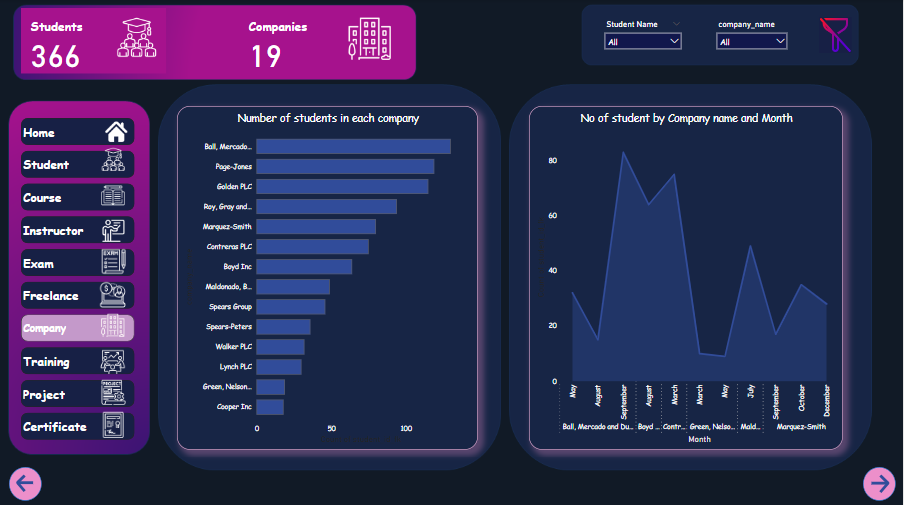

What the dashboard file says about the page in this screenshot:
{"tool":"powerbi","page":{"name":"Company","canvas":[1600,900],"ordinal":14},"visuals":[{"type":"clusteredBarChart","title":"Number of students in each company","fields":{"Category":["Dim_Hiring.company_name"],"Y":["CountNonNull(Fact_table.student_id_fk)"]},"box":[315.4,189.6,533.3,609.4],"z":0},{"type":"areaChart","title":"No of student by Company name and Month","fields":{"Y":["CountNonNull(Fact_table.student_id_fk)"],"Category":["Dim_Hiring.company_name","Dim_Hiring.hire_date.Variation.Date Hierarchy.Month"]},"box":[939,189.6,556.3,609.4],"z":1000},{"type":"cardVisual","fields":{"Data":["CountNonNull(Dim_Student.st_id_sk)"]},"box":[39.8,16.3,257.2,115.9],"z":2000},{"type":"slicer","fields":{"Values":["Dim_Student.st_fname"]},"box":[1063,31.9,155.9,70.9],"z":3000},{"type":"cardVisual","fields":{"Data":["Count(Dim_Hiring.company_name)"]},"box":[425.7,16.3,286.2,115.9],"z":4000},{"type":"slicer","fields":{"Values":["Dim_Hiring.company_name"]},"box":[1261.4,31.9,145.3,70.9],"z":5000},{"type":"actionButton","box":[1452.8,31.9,58.5,63.8],"z":6000},{"type":"pageNavigator","box":[39,210.8,202,572.2],"z":7000},{"type":"image","box":[168.5,210.1,79.7,48.9],"z":8000},{"type":"image","box":[163,259,79.7,50.7],"z":9000},{"type":"image","box":[168.5,385.8,68.8,48.9],"z":10000},{"type":"image","box":[170.3,434.7,65.2,61.6],"z":11000},{"type":"image","box":[159.4,322.4,85.1,50.7],"z":12000},{"type":"image","box":[166.6,496.3,70.6,56.2],"z":13000},{"type":"image","box":[170.3,552.5,63.4,50.7],"z":14000},{"type":"image","box":[166.6,615.8,70.6,54.3],"z":15000},{"type":"image","box":[152.2,726.3,99.6,56.2],"z":16000},{"type":"image","box":[163,670.2,79.7,54.3],"z":17000},{"type":"group","id":"g1","title":"Group 1","box":[1530.6,829.6,58,59.8],"z":18000},{"type":"group","id":"g2","title":"Group 2","box":[18.1,829.6,61.6,59.8],"z":19000},{"type":"shape","box":[1530.6,829.6,58,59.8],"z":19000,"group":"g1"},{"type":"actionButton","box":[1539.7,838.7,48.9,41.7],"z":20000,"group":"g1"},{"type":"shape","box":[18.1,829.6,58,59.8],"z":20500,"group":"g2"},{"type":"actionButton","box":[27.2,838.7,52.5,39.8],"z":21000,"group":"g2"}]}

Visuals, with their boxes in screenshot pixels (x1, y1, x2, y2), scaled from the page's 1600x900 canvas onto the 904x505 screenshot:
"Number of students in each company" clusteredBarChart: left=178, top=106, right=480, bottom=448
"No of student by Company name and Month" areaChart: left=531, top=106, right=845, bottom=448
cardVisual - CountNonNull(Dim_Student.st_id_sk): left=22, top=9, right=168, bottom=74
slicer - Dim_Student.st_fname: left=601, top=18, right=689, bottom=58
cardVisual - Count(Dim_Hiring.company_name): left=241, top=9, right=402, bottom=74
slicer - Dim_Hiring.company_name: left=713, top=18, right=795, bottom=58
actionButton: left=821, top=18, right=854, bottom=54
pageNavigator: left=22, top=118, right=136, bottom=439
image: left=95, top=118, right=140, bottom=145
image: left=92, top=145, right=137, bottom=174
image: left=95, top=216, right=134, bottom=244
image: left=96, top=244, right=133, bottom=278
image: left=90, top=181, right=138, bottom=209
image: left=94, top=278, right=134, bottom=310
image: left=96, top=310, right=132, bottom=338
image: left=94, top=346, right=134, bottom=376
image: left=86, top=408, right=142, bottom=439
image: left=92, top=376, right=137, bottom=407
"Group 1" group: left=865, top=465, right=898, bottom=499
"Group 2" group: left=10, top=465, right=45, bottom=499
shape: left=865, top=465, right=898, bottom=499
actionButton: left=870, top=471, right=898, bottom=494
shape: left=10, top=465, right=43, bottom=499
actionButton: left=15, top=471, right=45, bottom=493
